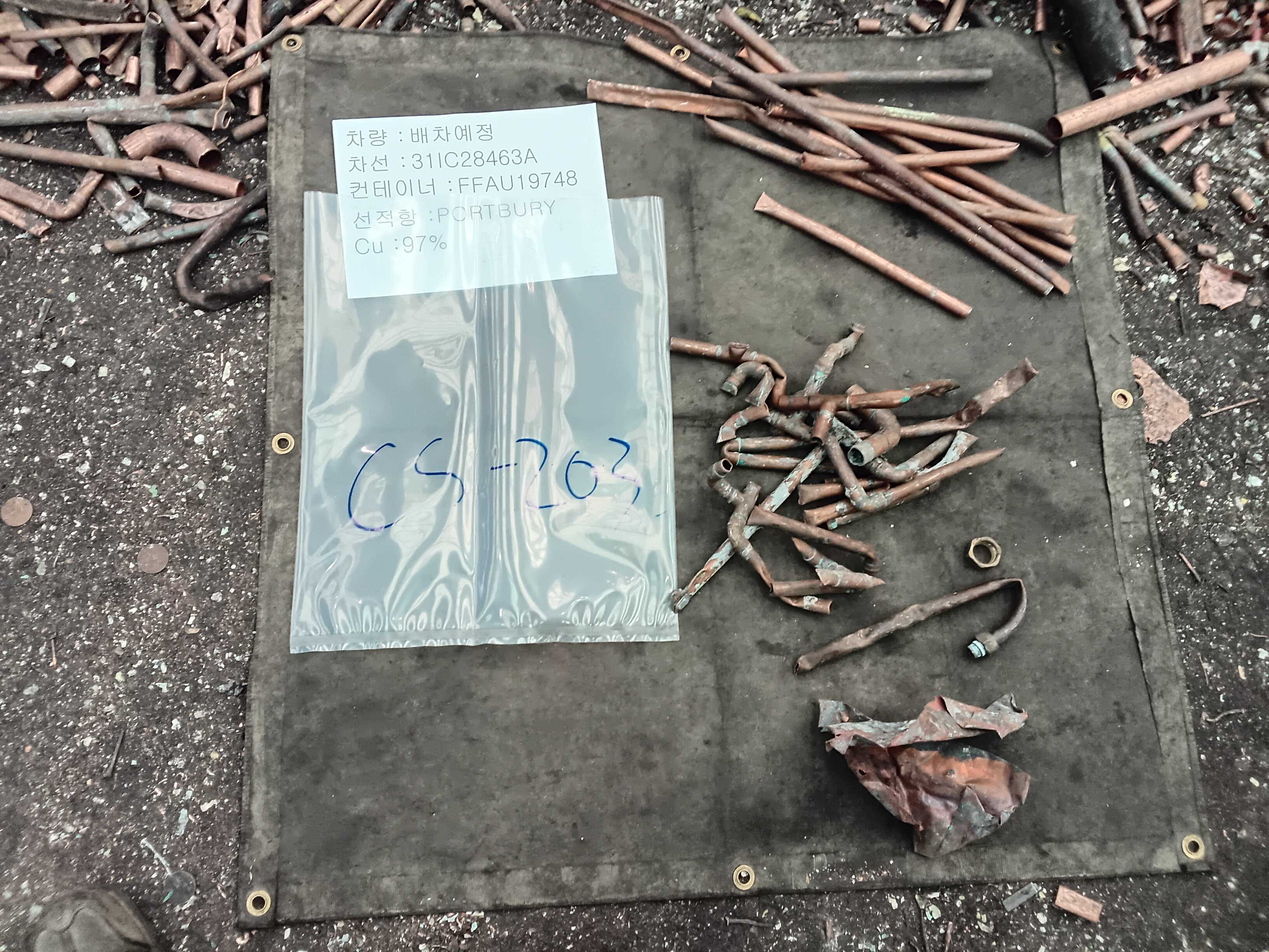Brass: (966, 538, 1003, 570)
Brass_Attach_70: (795, 578, 1028, 675)
Clean_Copper_Tubes_98: (752, 192, 974, 321), (765, 99, 1020, 173), (1047, 48, 1252, 140)
Copper_Elbows_92: (670, 337, 960, 444), (707, 458, 835, 615)
Copper_Plates_93: (818, 694, 1033, 860)
